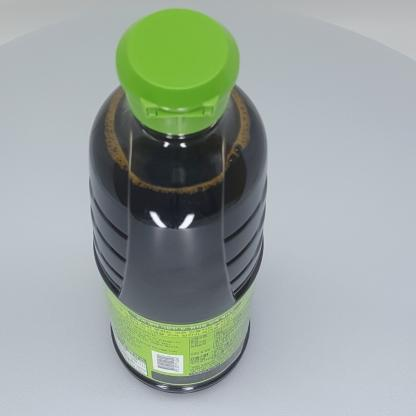-------------: (88, 8, 268, 394)
